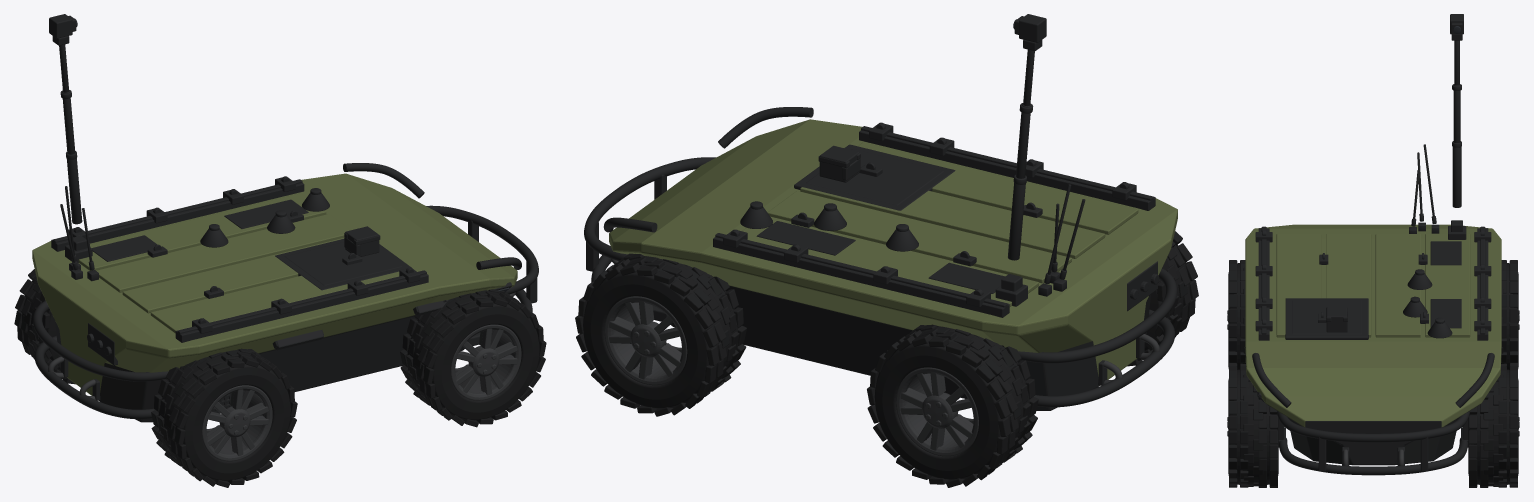
The model's file is asset-ugv.draco.glb.
The picture shows the model from 3 angles, left to right: view 1: azimuth 30°, elevation 25°; view 2: azimuth 150°, elevation 25°; view 3: azimuth 270°, elevation 25°; orthographic projection. The views are drawn at different scales.
Parts seen in each view (by area): view 1: Hull_Body, Deck_Slats, Wheel_RR, Wheel_FR, Deck_Rails, Deck_Hatch, AntiSlip, Wheel_RL, Bar_R_Upper, Mast_Tube, Bar_F_Upper, Bar_R_Lower (+8 smaller); view 2: Hull_Body, Deck_Slats, Wheel_RL, Wheel_FL, Deck_Rails, Deck_Hatch, AntiSlip, Wheel_RR, Bar_R_Upper, Mast_Tube, Bar_F_Upper, Bar_R_Lower (+9 smaller); view 3: Hull_Body, Deck_Slats, Wheel_FL, Wheel_FR, Deck_Rails, Deck_Hatch, Wheel_RL, Wheel_RR, Bar_F_Upper, Bar_F_Lower, AntiSlip, Mast_Tube (+8 smaller).
Boxes of the visible parts, x1,y1,x2,y2 form: Hull_Body: [32, 173, 517, 422]; Deck_Slats: [78, 193, 399, 333]; Wheel_RR: [151, 348, 297, 487]; Wheel_FR: [400, 289, 546, 427]; Deck_Rails: [51, 176, 428, 342]; Deck_Hatch: [275, 239, 411, 290]; AntiSlip: [92, 199, 308, 261]; Wheel_RL: [14, 269, 75, 384]; Bar_R_Upper: [33, 300, 168, 381]; Mast_Tube: [59, 44, 82, 224]; Bar_F_Upper: [426, 205, 538, 294]; Bar_R_Lower: [34, 335, 155, 419]; Hull_Body: [609, 119, 1177, 410]; Deck_Slats: [742, 142, 1138, 306]; Wheel_RL: [867, 324, 1038, 487]; Wheel_FL: [575, 253, 746, 416]; Deck_Rails: [713, 122, 1155, 317]; Deck_Hatch: [794, 144, 955, 210]; AntiSlip: [756, 221, 1004, 293]; Wheel_RR: [1127, 231, 1198, 366]; Bar_R_Upper: [1018, 268, 1177, 363]; Mast_Tube: [1008, 49, 1034, 260]; Bar_F_Upper: [584, 157, 715, 260]; Bar_R_Lower: [1031, 309, 1175, 407]; Hull_Body: [1245, 224, 1501, 465]; Deck_Slats: [1276, 234, 1470, 337]; Wheel_FL: [1468, 366, 1519, 487]; Wheel_FR: [1227, 366, 1278, 487]; Deck_Rails: [1255, 226, 1491, 340]; Deck_Hatch: [1285, 298, 1368, 339]; Wheel_RL: [1501, 260, 1519, 369]; Wheel_RR: [1227, 260, 1245, 369]; Bar_F_Upper: [1277, 411, 1469, 442]; Bar_F_Lower: [1278, 438, 1468, 475]; AntiSlip: [1430, 241, 1461, 328]; Mast_Tube: [1452, 40, 1461, 207].
Bounding box in the file's own units: 3 × 2.41 × 1.89.
